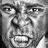angry: (3, 0, 48, 48)
